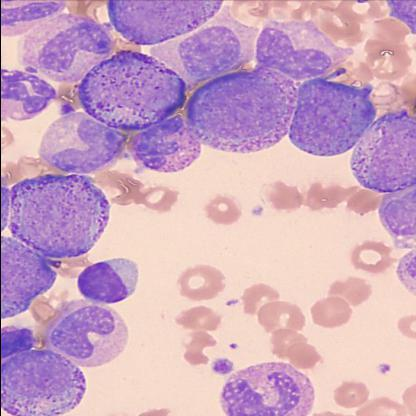Promyelocyte: (181, 72, 290, 154), (10, 174, 110, 258)
